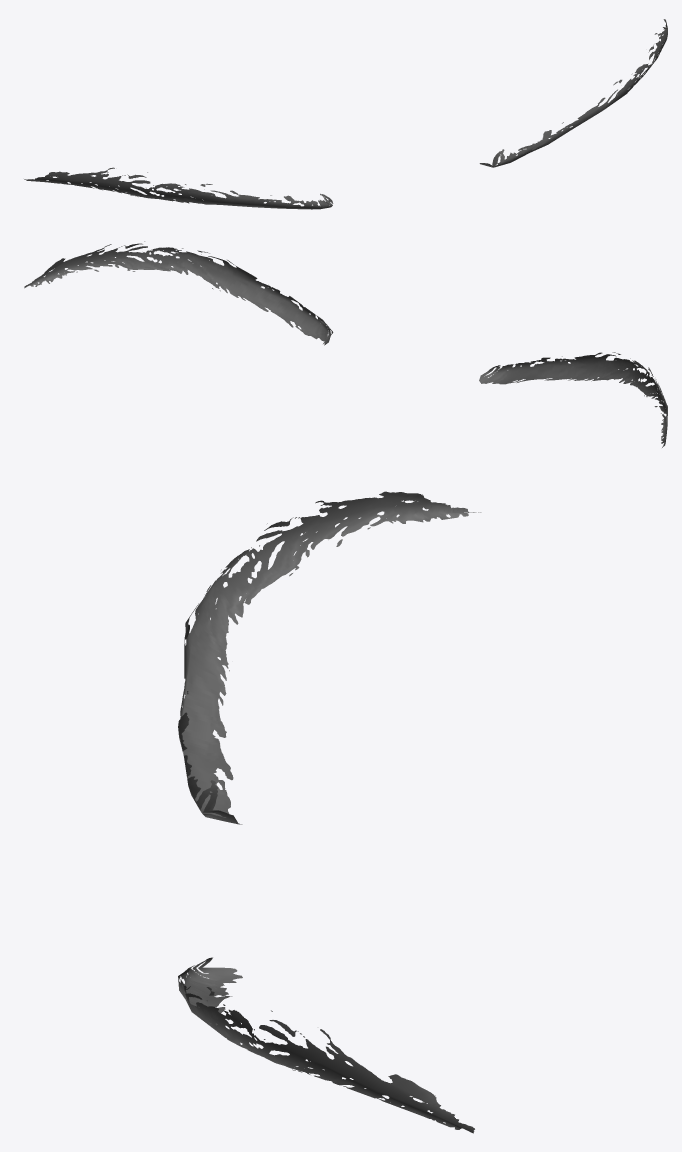
File: brow005.glb
3 views of the same model, one above another, from view 1: azimuth 30°, elevation 25°; view 2: azimuth 150°, elevation 25°; view 3: azimuth 270°, elevation 25° (orthographic). The views are drawn at different scales.
Visible parts, largest first — view 1: editor_brow005; view 2: editor_brow005; view 3: editor_brow005.
Boxes of the visible parts, bbox=[...] form: editor_brow005: bbox=[24, 19, 667, 209]; editor_brow005: bbox=[24, 241, 667, 447]; editor_brow005: bbox=[178, 491, 481, 1133].
Bounding box in the file's own units: 0.1152 × 0.0125 × 0.0251.
1 material, 1 textured.
